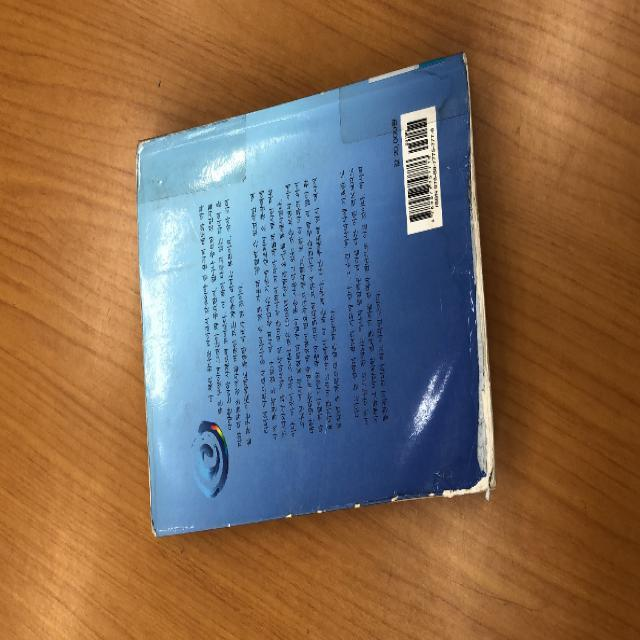Ripped: (441, 115, 501, 500), (134, 131, 165, 202)
Wornout: (139, 390, 163, 537), (460, 48, 475, 115), (427, 474, 440, 504), (389, 480, 402, 510), (350, 487, 363, 517), (315, 496, 328, 526), (283, 499, 296, 529), (223, 516, 233, 532)
